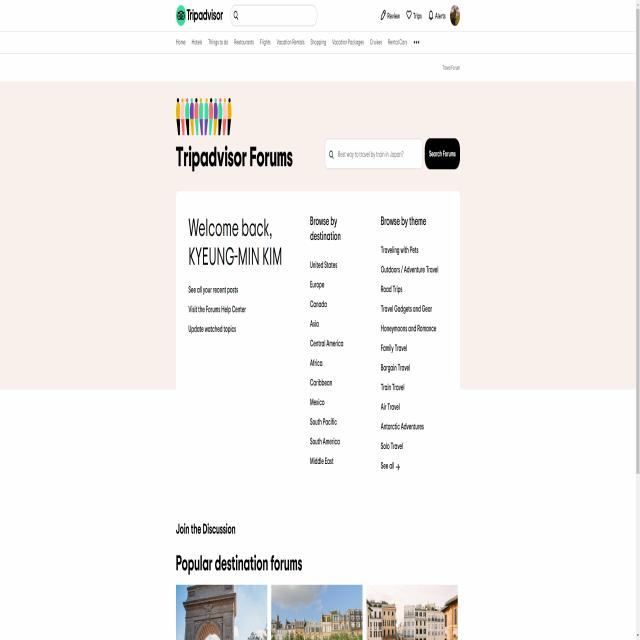menu-bar: (377, 4, 463, 31)
search: (323, 133, 461, 176), (228, 4, 320, 30)
tab-bar: (175, 35, 422, 50)
